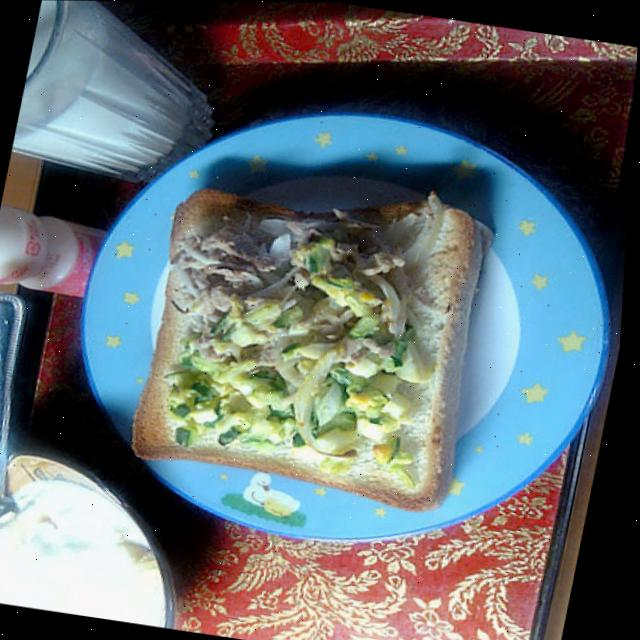面包点心: (61, 96, 618, 567)
